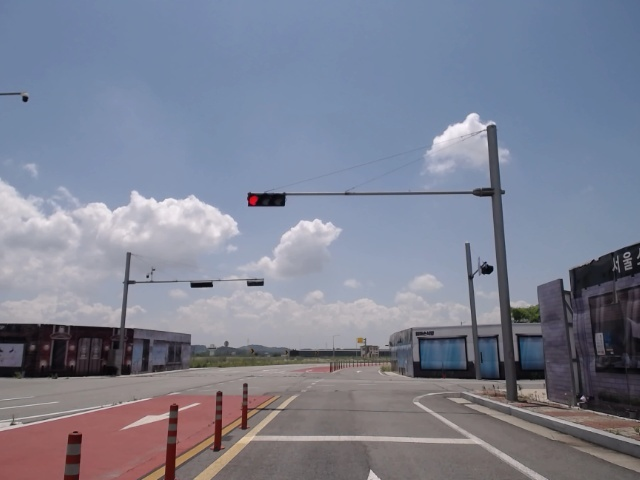red_3: (247, 194, 288, 208)
